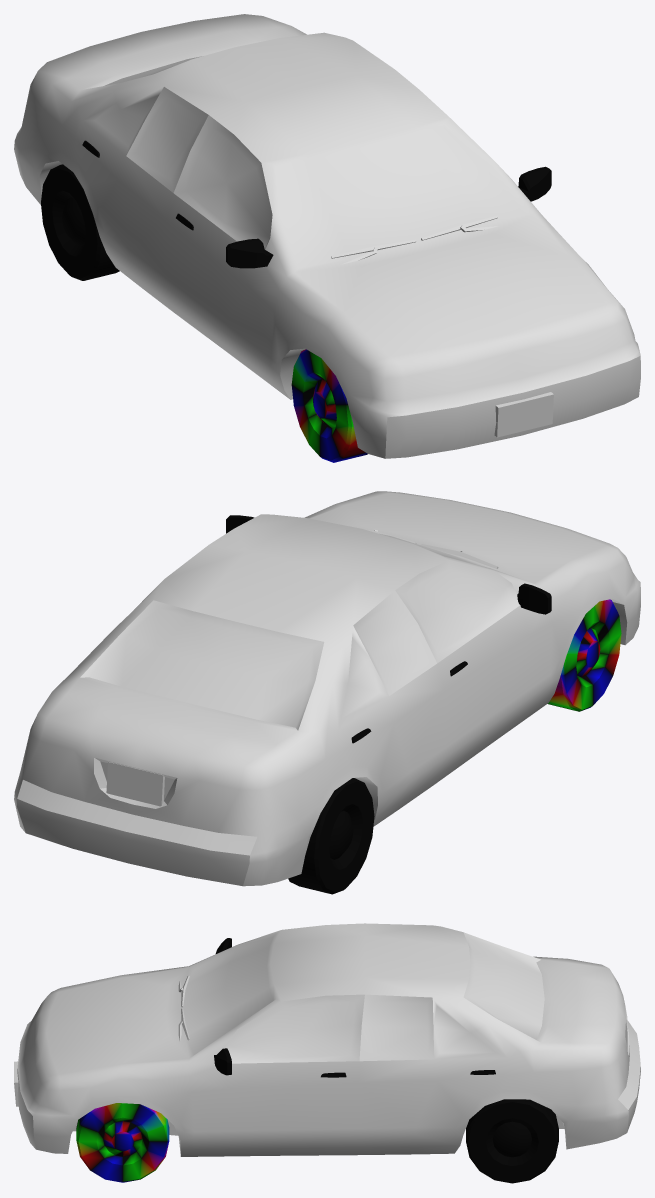
The model's file is mavi.FBX.
3 renders of one model, top to bottom at view 1: azimuth 30°, elevation 25°; view 2: azimuth 150°, elevation 25°; view 3: azimuth 270°, elevation 25°, orthographic. The views are drawn at different scales.
Parts seen in each view (by area): view 1: mavi; view 2: mavi; view 3: mavi.
Boxes of the visible parts, x1,y1,x2,y2 form: mavi: (14, 14, 640, 462); mavi: (14, 491, 640, 894); mavi: (14, 923, 640, 1183).
Size of the model in its own units: 227 by 151 by 486.
